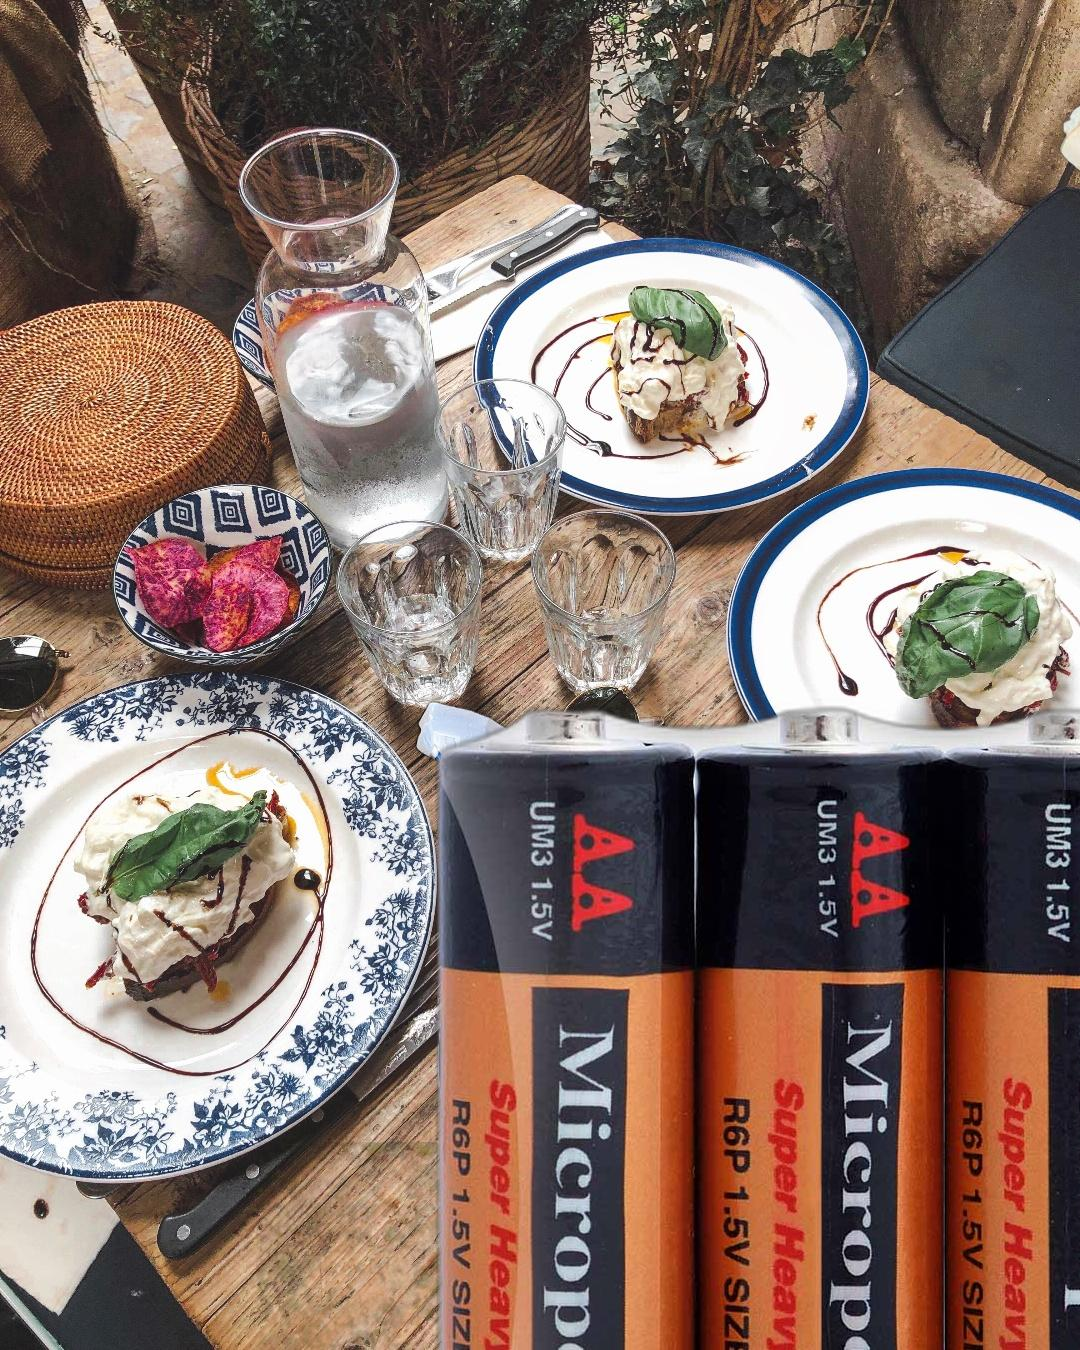battery: (426, 698, 1080, 1350)
biological: (256, 1142, 445, 1350)
glass: (730, 1160, 1027, 1276)
metal-cans: (980, 199, 1080, 627)
plastic-bottles: (406, 695, 734, 1214)
trash: (1056, 63, 1080, 203)
